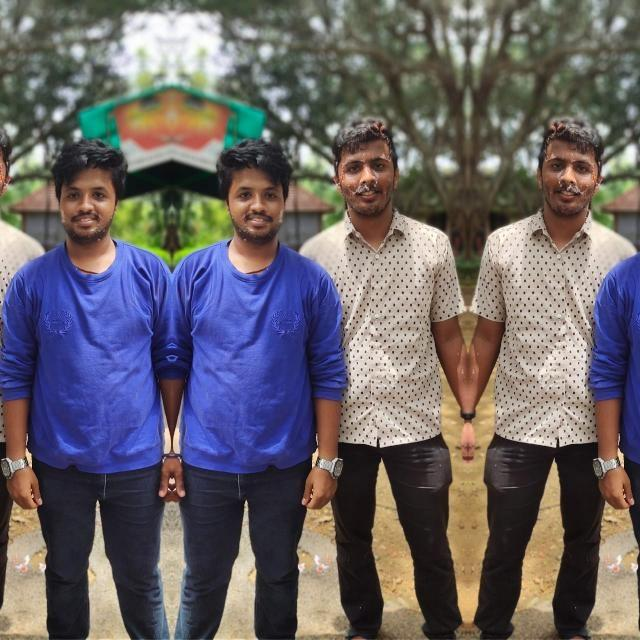person: (285, 104, 467, 632), (468, 104, 640, 631), (3, 122, 170, 640), (172, 122, 338, 640), (0, 104, 57, 631), (596, 122, 640, 639)
